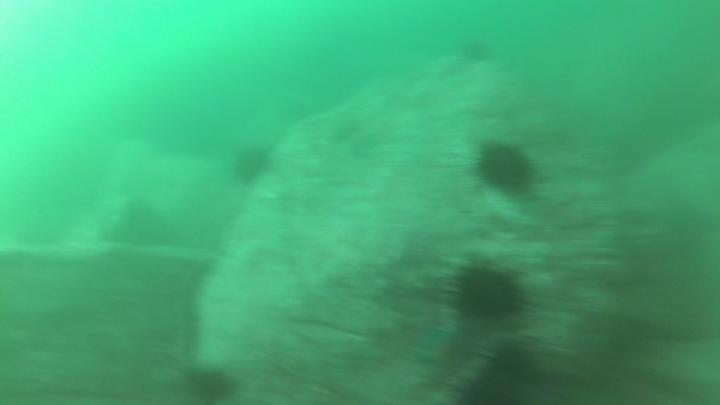echinus: (449, 259, 525, 330), (475, 139, 539, 195), (443, 368, 532, 405), (477, 342, 539, 386), (182, 361, 239, 405), (232, 144, 277, 189), (458, 38, 490, 68)
